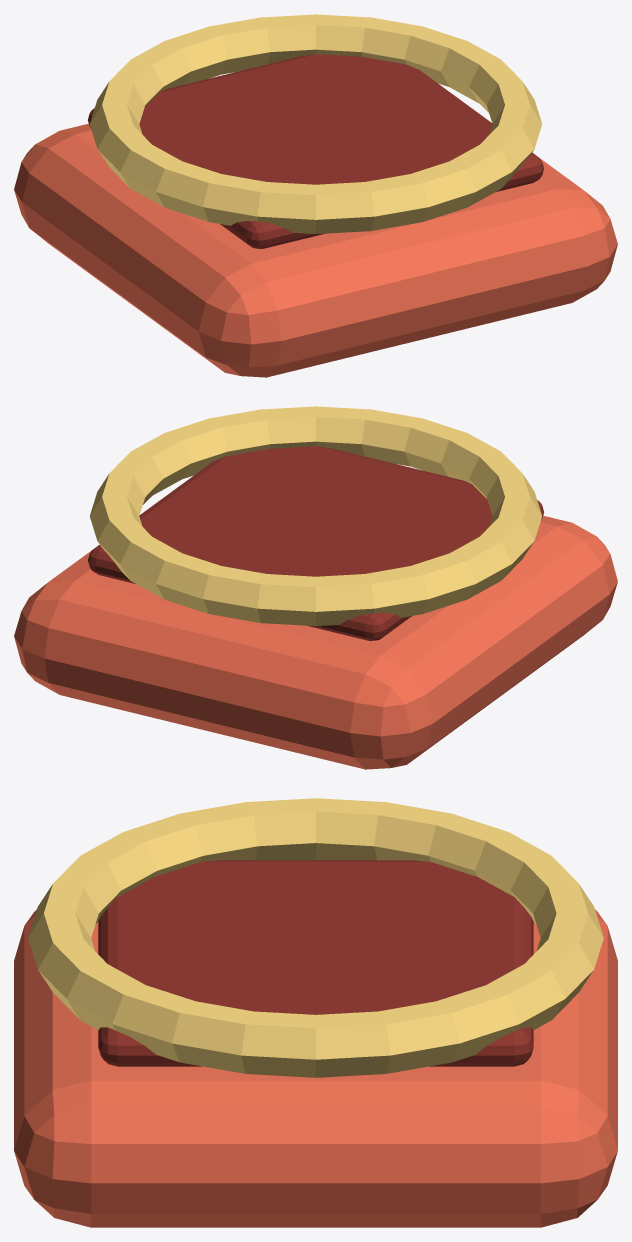
Rendered from PR3D_Container_1x1.glb.
3 views of the same model, one above another, from view 1: azimuth 30°, elevation 25°; view 2: azimuth 150°, elevation 25°; view 3: azimuth 270°, elevation 25° (orthographic). The views are drawn at different scales.
Visible parts, largest first — view 1: Visual_1x1_Base_00, Visual_1x1_Rim_00, Visual_1x1_Inset_00; view 2: Visual_1x1_Base_00, Visual_1x1_Rim_00, Visual_1x1_Inset_00; view 3: Visual_1x1_Base_00, Visual_1x1_Rim_00, Visual_1x1_Inset_00.
Boxes of the visible parts, x1=… form: Visual_1x1_Base_00: x1=14, y1=123, x2=617, y2=377; Visual_1x1_Rim_00: x1=89, y1=14, x2=542, y2=233; Visual_1x1_Inset_00: x1=88, y1=54, x2=543, y2=248; Visual_1x1_Base_00: x1=14, y1=515, x2=617, y2=769; Visual_1x1_Rim_00: x1=89, y1=406, x2=542, y2=625; Visual_1x1_Inset_00: x1=88, y1=446, x2=543, y2=640; Visual_1x1_Base_00: x1=14, y1=909, x2=617, y2=1227; Visual_1x1_Rim_00: x1=28, y1=798, x2=603, y2=1077; Visual_1x1_Inset_00: x1=98, y1=860, x2=533, y2=1066.
Size of the model in its own units: 0.86 by 0.334 by 0.86.
